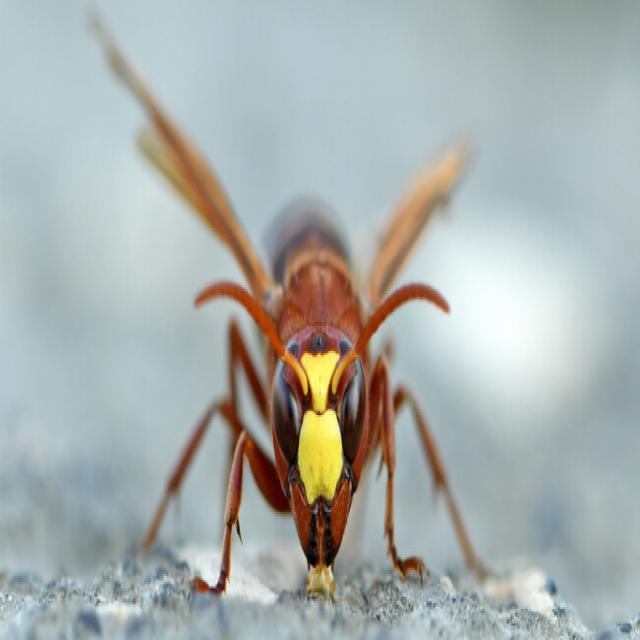Vespa Orientalis: (71, 2, 535, 627)
